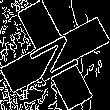N_NE: (23, 26, 87, 84)
